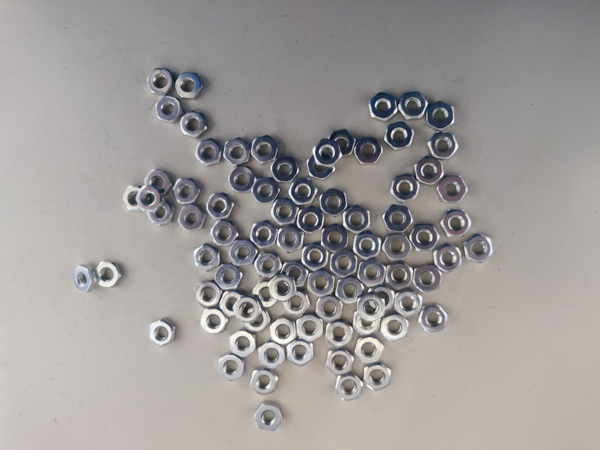nut: (464, 234, 494, 264), (368, 92, 399, 121), (414, 157, 445, 186), (390, 174, 420, 203), (418, 305, 449, 333), (334, 373, 363, 402), (399, 90, 427, 120), (358, 259, 386, 289), (353, 231, 381, 261), (321, 224, 349, 254), (301, 243, 329, 273), (355, 336, 385, 364), (441, 210, 472, 237), (436, 176, 468, 202), (385, 123, 414, 151), (314, 139, 342, 168), (434, 244, 462, 273), (413, 265, 442, 293), (255, 403, 284, 431), (386, 261, 414, 290), (394, 290, 423, 318), (410, 225, 440, 252), (383, 205, 413, 232), (382, 234, 412, 261), (344, 205, 371, 235), (330, 249, 357, 279), (428, 133, 459, 159), (427, 102, 455, 130), (357, 294, 385, 322), (326, 349, 354, 377), (251, 136, 278, 165), (354, 138, 383, 165), (297, 206, 324, 235), (320, 189, 347, 218), (270, 318, 297, 347), (335, 278, 364, 305), (326, 320, 353, 349), (250, 221, 278, 248), (277, 226, 304, 254), (258, 342, 285, 370), (381, 315, 409, 342), (194, 244, 220, 273), (289, 179, 318, 205), (250, 370, 279, 396), (178, 205, 205, 232), (287, 341, 314, 368), (297, 315, 324, 342), (308, 271, 335, 298), (180, 112, 208, 138), (146, 201, 174, 227), (215, 265, 243, 291), (269, 276, 297, 302), (364, 365, 392, 391), (233, 298, 262, 323), (382, 235, 411, 260), (149, 320, 175, 347), (196, 139, 222, 166), (224, 138, 250, 165), (207, 194, 234, 220), (218, 356, 245, 382), (231, 331, 257, 358), (329, 130, 356, 156), (316, 297, 343, 323), (172, 180, 200, 205), (252, 179, 280, 204), (271, 158, 299, 183), (255, 253, 283, 278), (230, 242, 257, 267), (308, 156, 335, 181), (253, 282, 278, 309), (244, 309, 271, 334), (281, 262, 308, 287), (353, 311, 380, 336), (211, 222, 239, 246), (271, 200, 299, 224), (148, 69, 173, 95), (200, 310, 226, 335), (175, 74, 202, 98), (229, 168, 256, 192), (73, 265, 95, 294), (136, 186, 161, 211), (196, 283, 221, 308), (284, 292, 310, 316), (368, 288, 395, 311), (157, 97, 181, 122), (145, 170, 169, 195), (97, 263, 120, 288), (123, 186, 140, 211), (222, 293, 239, 317)
